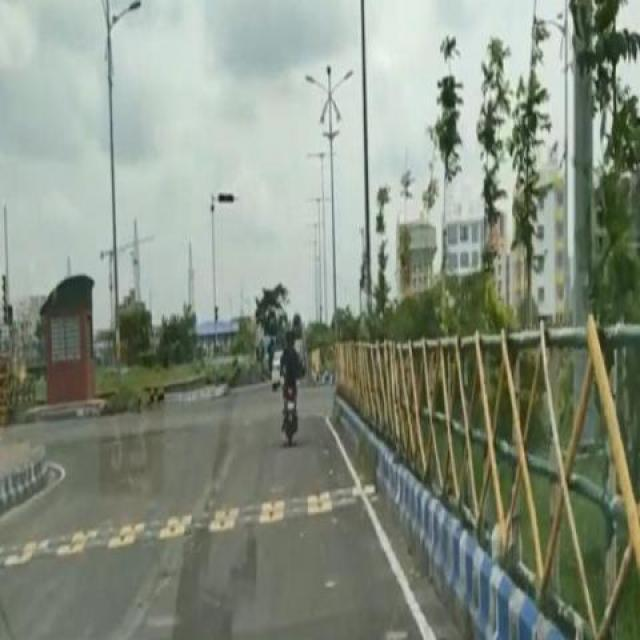Speed Bump: (0, 478, 377, 564)
